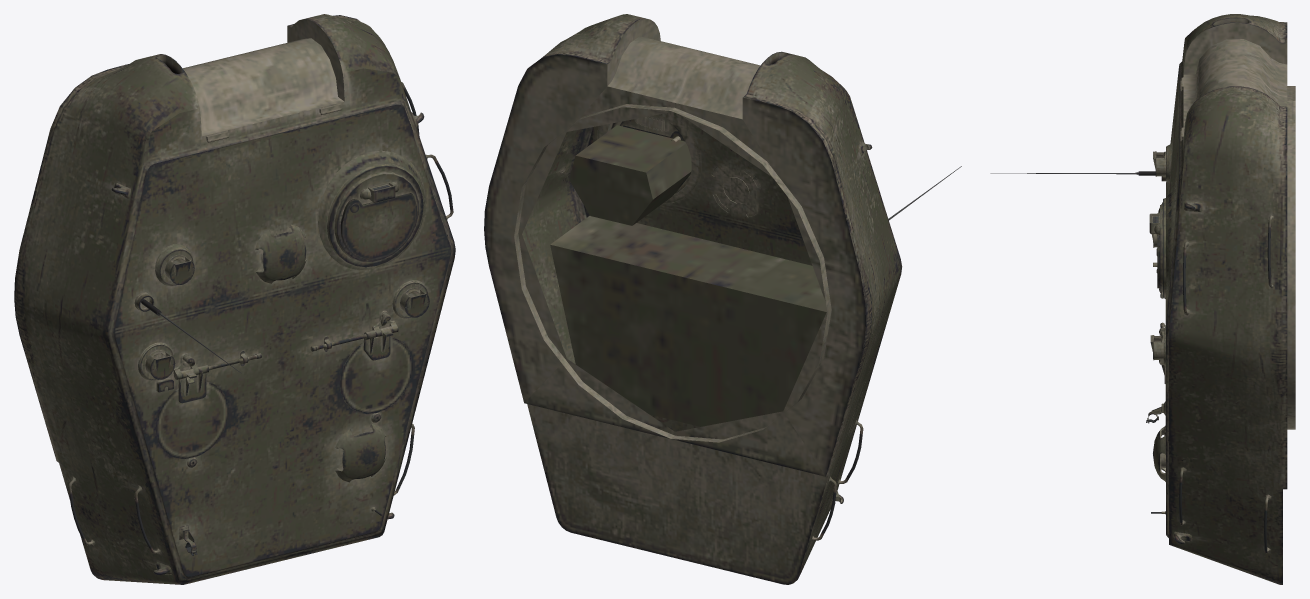
The model's file is Turret_01.glb.
The picture shows the model from 3 angles, left to right: view 1: azimuth 30°, elevation 25°; view 2: azimuth 150°, elevation 25°; view 3: azimuth 270°, elevation 25°; orthographic projection. The views are drawn at different scales.
Visible parts, largest first — view 1: set_0_group_0; view 2: set_0_group_0; view 3: set_0_group_0.
Part boxes in pixels (left/top/right/bottom): set_0_group_0: left=14, top=14, right=455, bottom=584; set_0_group_0: left=484, top=14, right=961, bottom=584; set_0_group_0: left=990, top=14, right=1295, bottom=584.
Bounding box in the file's own units: 2.86 × 3.57 × 2.06.
Materials: 1 (1 with a texture image).
